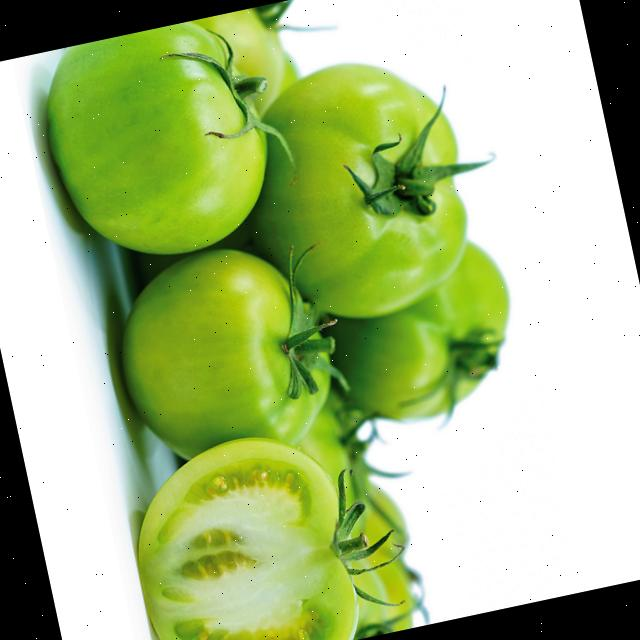tomato: (87, 224, 441, 640), (15, 0, 339, 277), (240, 27, 504, 330)
